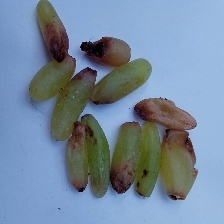grapes: (24, 4, 224, 200)
